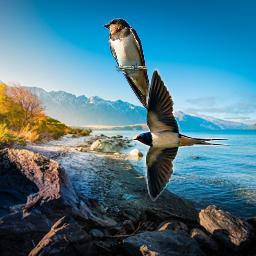Swallow: (133, 68, 232, 202), (102, 18, 160, 115)
